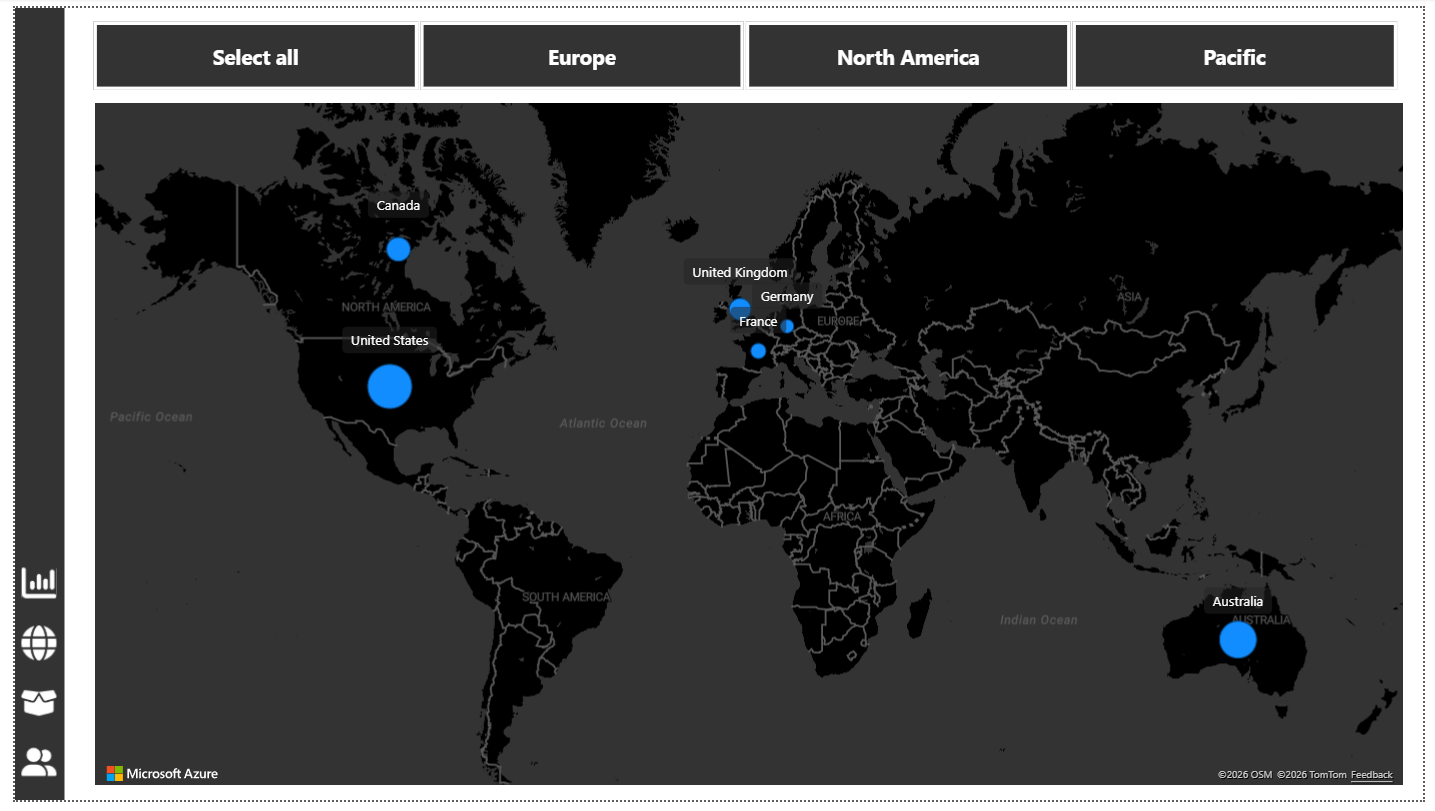

Layout of this report page (visuals, bound fields, positions):
{"tool":"powerbi","page":{"name":"Map","canvas":[1280,720],"ordinal":1},"visuals":[{"type":"shape","box":[0,0,45,720],"z":0},{"type":"actionButton","box":[2.2,502.8,42.6,39.9],"z":0,"group":"g1"},{"type":"azureMap","fields":{"Category":["Territory Lookup.Country"],"Size":["Measure Table.Total Orders"]},"box":[68.2,81.8,1199.1,630],"z":1000},{"type":"actionButton","box":[2.2,557.2,42.6,39.9],"z":1000,"group":"g1"},{"type":"slicer","fields":{"Values":["Territory Lookup.Continent"]},"box":[45.5,5.5,1234.5,76.4],"z":2000},{"type":"actionButton","box":[2.2,611.6,42.6,39.9],"z":2000,"group":"g1"},{"type":"group","id":"g1","title":"Navigation Buttons","box":[2.2,502.8,42.6,203.1],"z":3000},{"type":"actionButton","box":[2.2,666,42.6,39.9],"z":3000,"group":"g1"}]}

Visuals, with their boxes on the page's 1280x720 design canvas (x1, y1, x2, y2). These are canvas units, not pixel positions in the 1435x811 screenshot, which may show the page scaled, cropped or inside an application window:
shape: box(0, 0, 45, 720)
actionButton: box(2, 503, 45, 543)
azureMap - Territory Lookup.Country x Measure Table.Total Orders: box(68, 82, 1267, 712)
actionButton: box(2, 557, 45, 597)
slicer - Territory Lookup.Continent: box(46, 6, 1280, 82)
actionButton: box(2, 612, 45, 652)
"Navigation Buttons" group: box(2, 503, 45, 706)
actionButton: box(2, 666, 45, 706)
